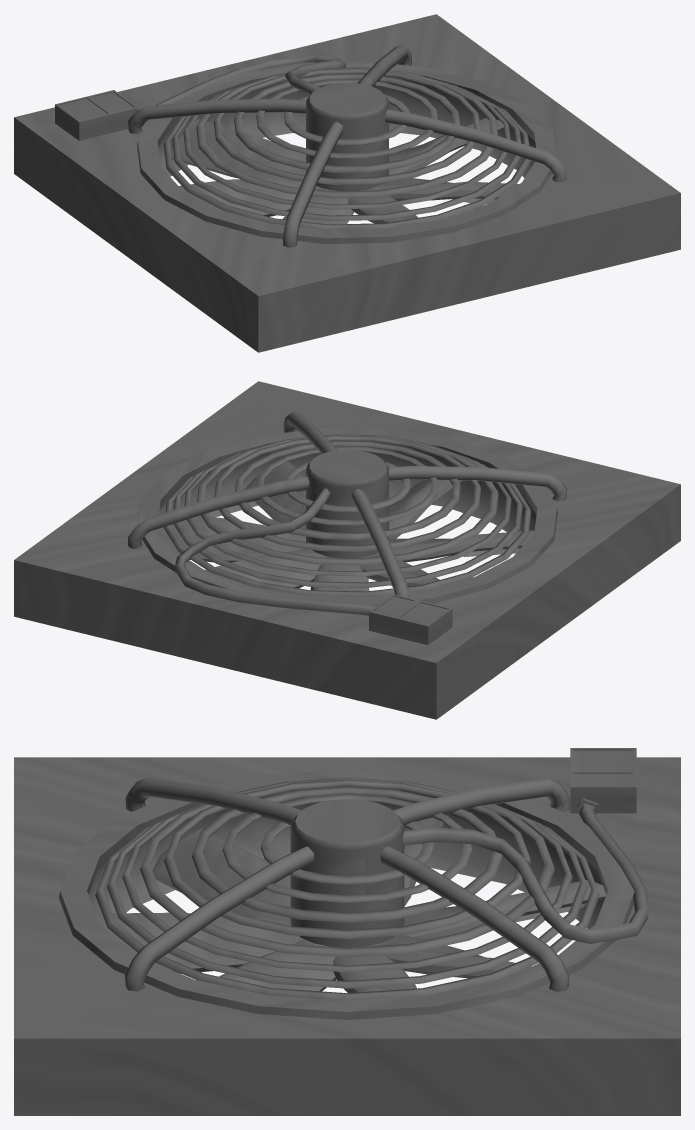
Rendered from extractor.glb.
The picture shows the model from 3 angles, top to bottom: view 1: azimuth 30°, elevation 25°; view 2: azimuth 150°, elevation 25°; view 3: azimuth 270°, elevation 25°; orthographic projection. The views are drawn at different scales.
Parts seen in each view (by area): view 1: Extractor; view 2: Extractor; view 3: Extractor.
Part boxes in pixels (x1,y1,x2,y2): Extractor: [14, 14, 680, 352]; Extractor: [14, 381, 680, 719]; Extractor: [14, 748, 680, 1115].
Size of the model in its own units: 0.863 by 0.2204 by 0.8646.
Materials: 1 (1 with a texture image).
